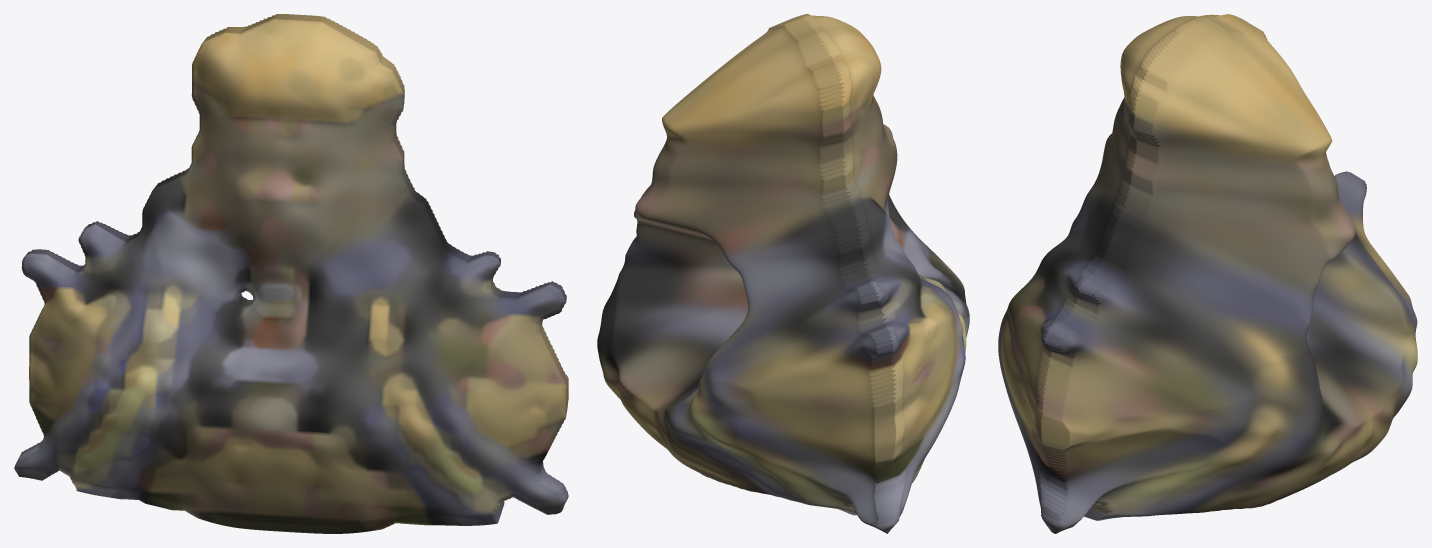
File: yuri_gattling_cannon.glb
The picture shows the model from 3 angles, left to right: view 1: azimuth 30°, elevation 25°; view 2: azimuth 150°, elevation 25°; view 3: azimuth 270°, elevation 25°; orthographic projection. The views are drawn at different scales.
Parts seen in each view (by area): view 1: yuri_gatling_cannon; view 2: yuri_gatling_cannon; view 3: yuri_gatling_cannon.
Part boxes in pixels (x1,y1,x2,y2): yuri_gatling_cannon: (14,14,568,533); yuri_gatling_cannon: (597,14,969,533); yuri_gatling_cannon: (998,14,1417,533).
Bounding box in the file's own units: 1.83 × 2.09 × 1.85.
